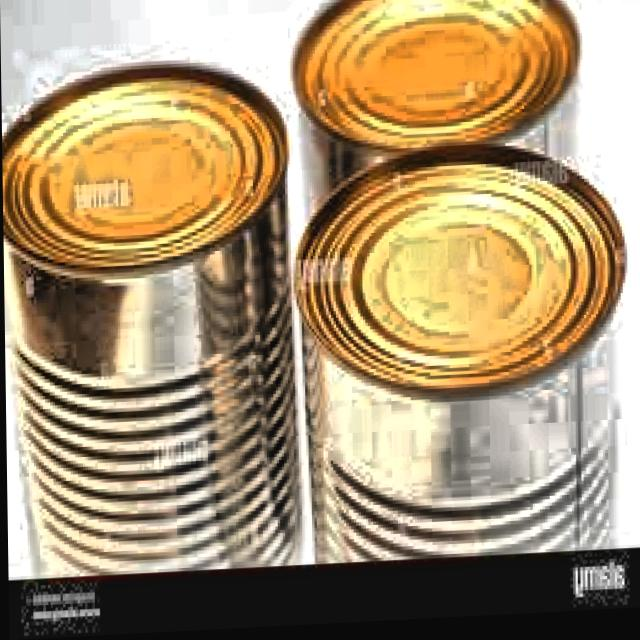can: (1, 50, 307, 582), (288, 138, 634, 572), (290, 0, 593, 244)
